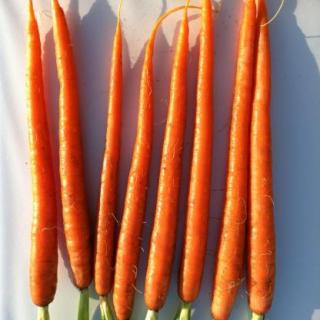Wortel: (26, 1, 60, 307)
